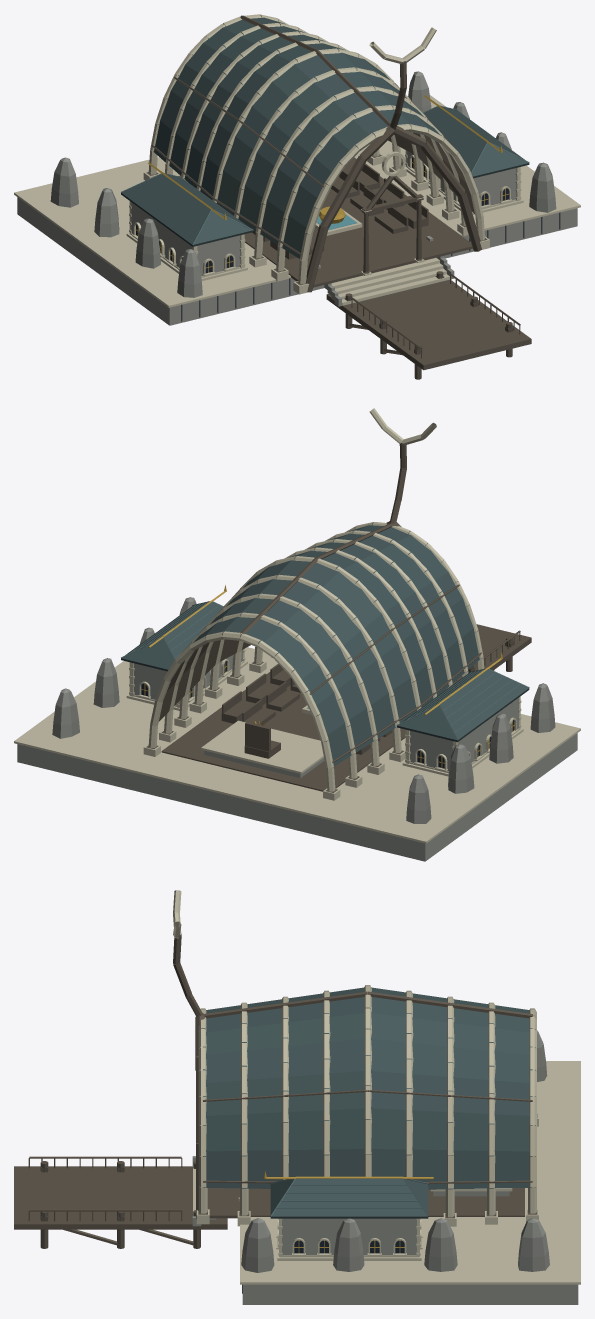
Rendered from whale-moot.glb.
3 renders of one model, top to bottom at view 1: azimuth 30°, elevation 25°; view 2: azimuth 150°, elevation 25°; view 3: azimuth 270°, elevation 25°, orthographic. The views are drawn at different scales.
Visible parts, largest first — view 1: shore-terrace, rib-vault-roof, moot-floor, rib-vault, prow-portal, moot-floor-roof, prow-portal-roof; view 2: shore-terrace, rib-vault-roof, moot-floor, rib-vault, moot-floor-roof, prow-portal, prow-portal-roof; view 3: rib-vault-roof, shore-terrace, rib-vault, moot-floor, moot-floor-roof, prow-portal, prow-portal-roof.
Boxes of the visible parts, x1=… form: shore-terrace: x1=14, y1=95, x2=580, y2=379; rib-vault-roof: x1=151, y1=15, x2=474, y2=258; moot-floor: x1=126, y1=150, x2=523, y2=287; rib-vault: x1=143, y1=14, x2=489, y2=294; prow-portal: x1=50, y1=71, x2=556, y2=297; moot-floor-roof: x1=121, y1=95, x2=529, y2=246; prow-portal-roof: x1=369, y1=27, x2=436, y2=129; shore-terrace: x1=14, y1=624, x2=580, y2=861; rib-vault-roof: x1=159, y1=523, x2=481, y2=766; moot-floor: x1=126, y1=649, x2=523, y2=791; rib-vault: x1=143, y1=522, x2=484, y2=800; moot-floor-roof: x1=121, y1=585, x2=529, y2=742; prow-portal: x1=52, y1=521, x2=555, y2=823; prow-portal-roof: x1=369, y1=408, x2=436, y2=523; rib-vault-roof: x1=203, y1=987, x2=532, y2=1189; shore-terrace: x1=14, y1=1061, x2=580, y2=1304; rib-vault: x1=196, y1=985, x2=538, y2=1226; moot-floor: x1=207, y1=1188, x2=524, y2=1260; moot-floor-roof: x1=263, y1=1171, x2=433, y2=1218; prow-portal: x1=195, y1=1013, x2=549, y2=1272; prow-portal-roof: x1=173, y1=890, x2=203, y2=1016.
Size of the model in its own units: 34.35 by 22.93 by 37.18.
